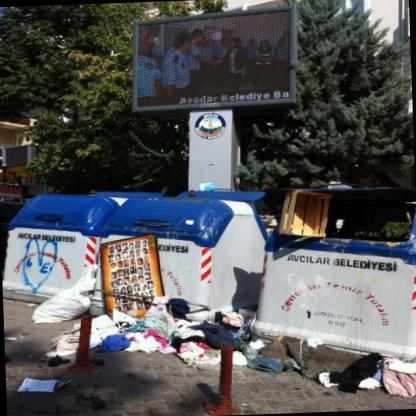Garbage: (112, 303, 198, 359), (22, 288, 107, 320), (25, 370, 66, 404), (46, 345, 82, 363), (124, 330, 148, 347)
